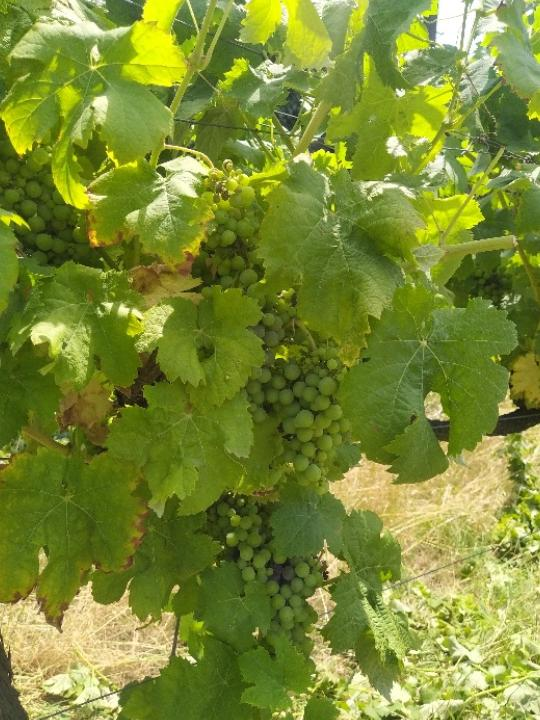grape: (245, 352, 350, 504)
